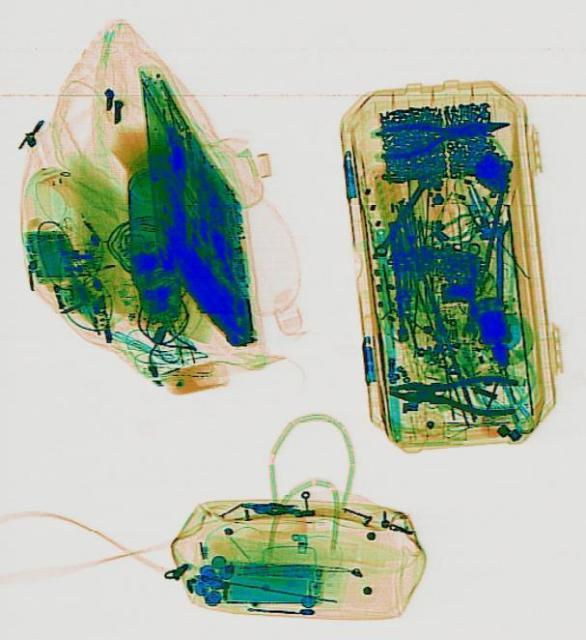Pliers: (371, 105, 510, 158), (386, 368, 517, 416)
Wrench: (368, 169, 435, 259), (487, 218, 511, 314), (462, 242, 476, 338)
